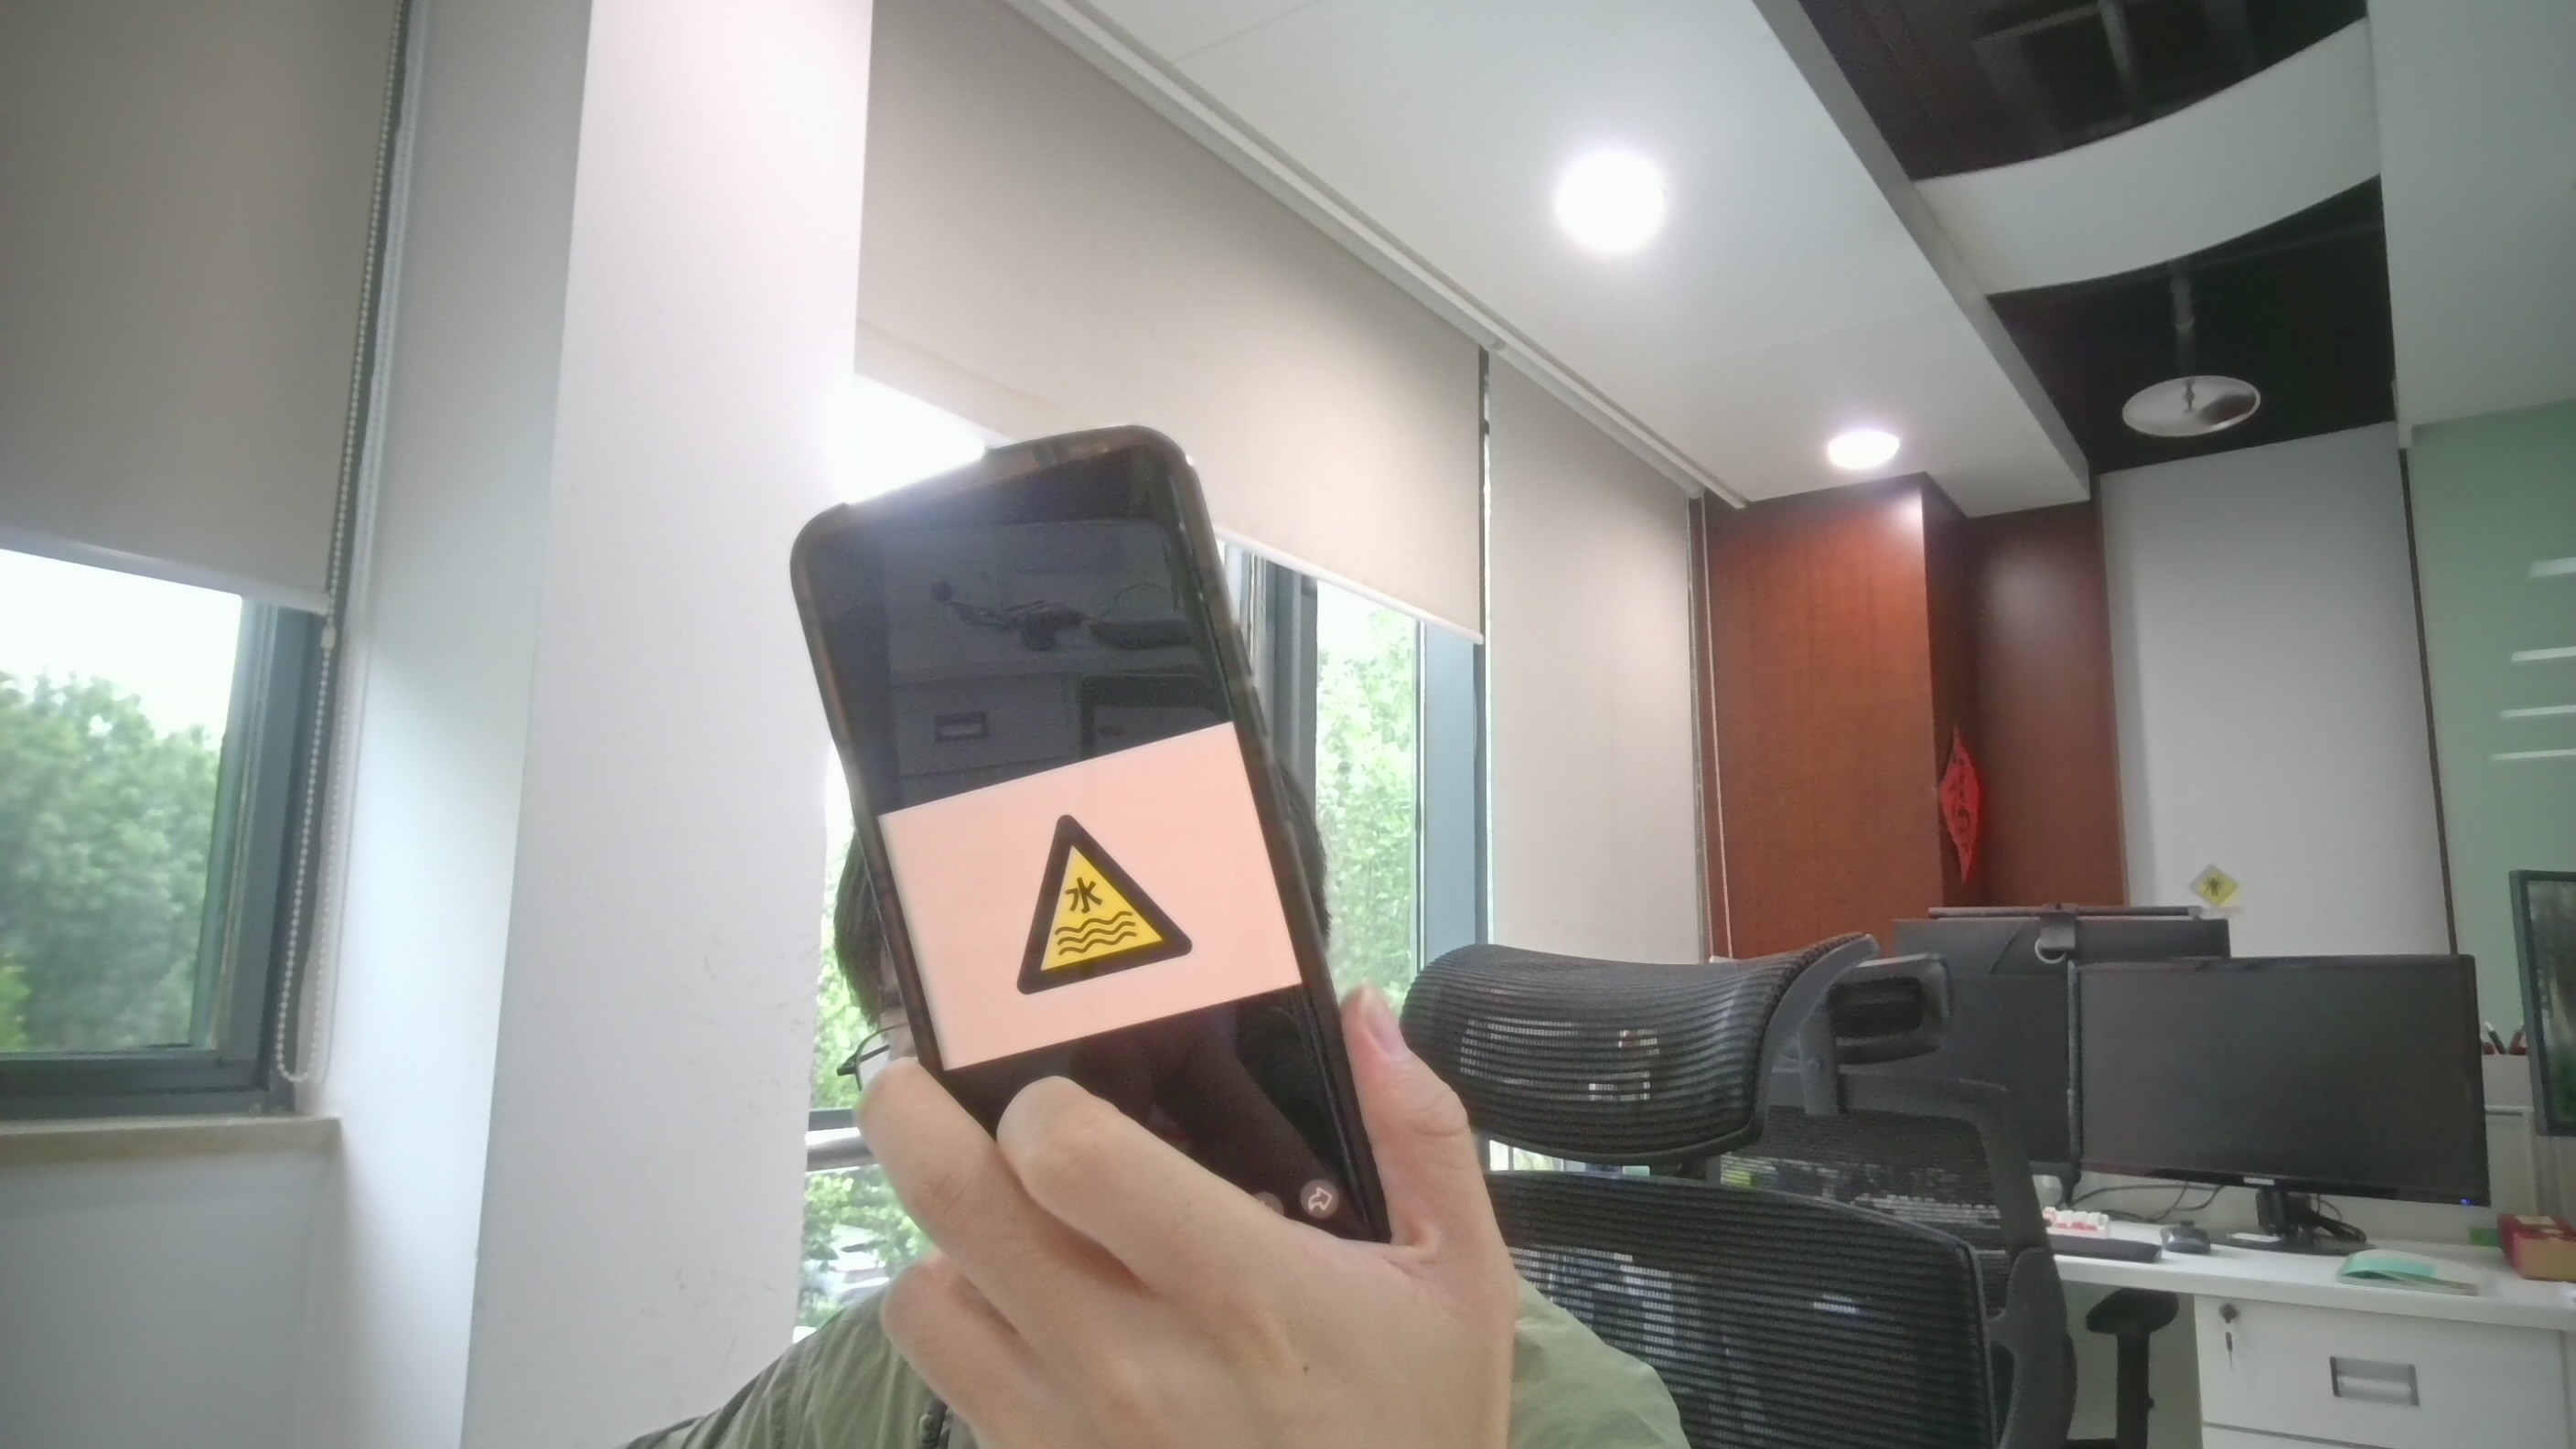shuizai: (984, 814, 1196, 1000)
